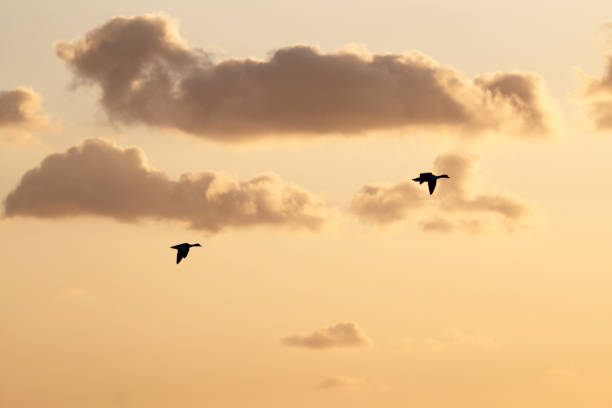goose: (410, 170, 451, 196), (166, 240, 203, 266)
